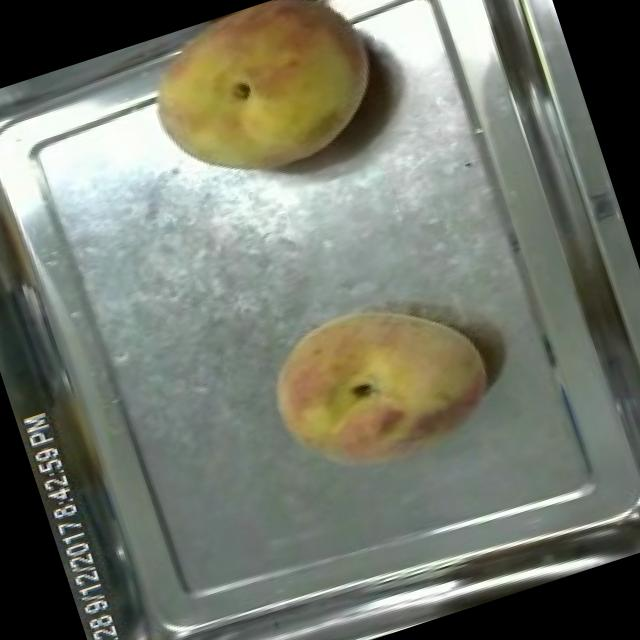Fruit: (245, 268, 513, 502), (124, 0, 404, 210)
